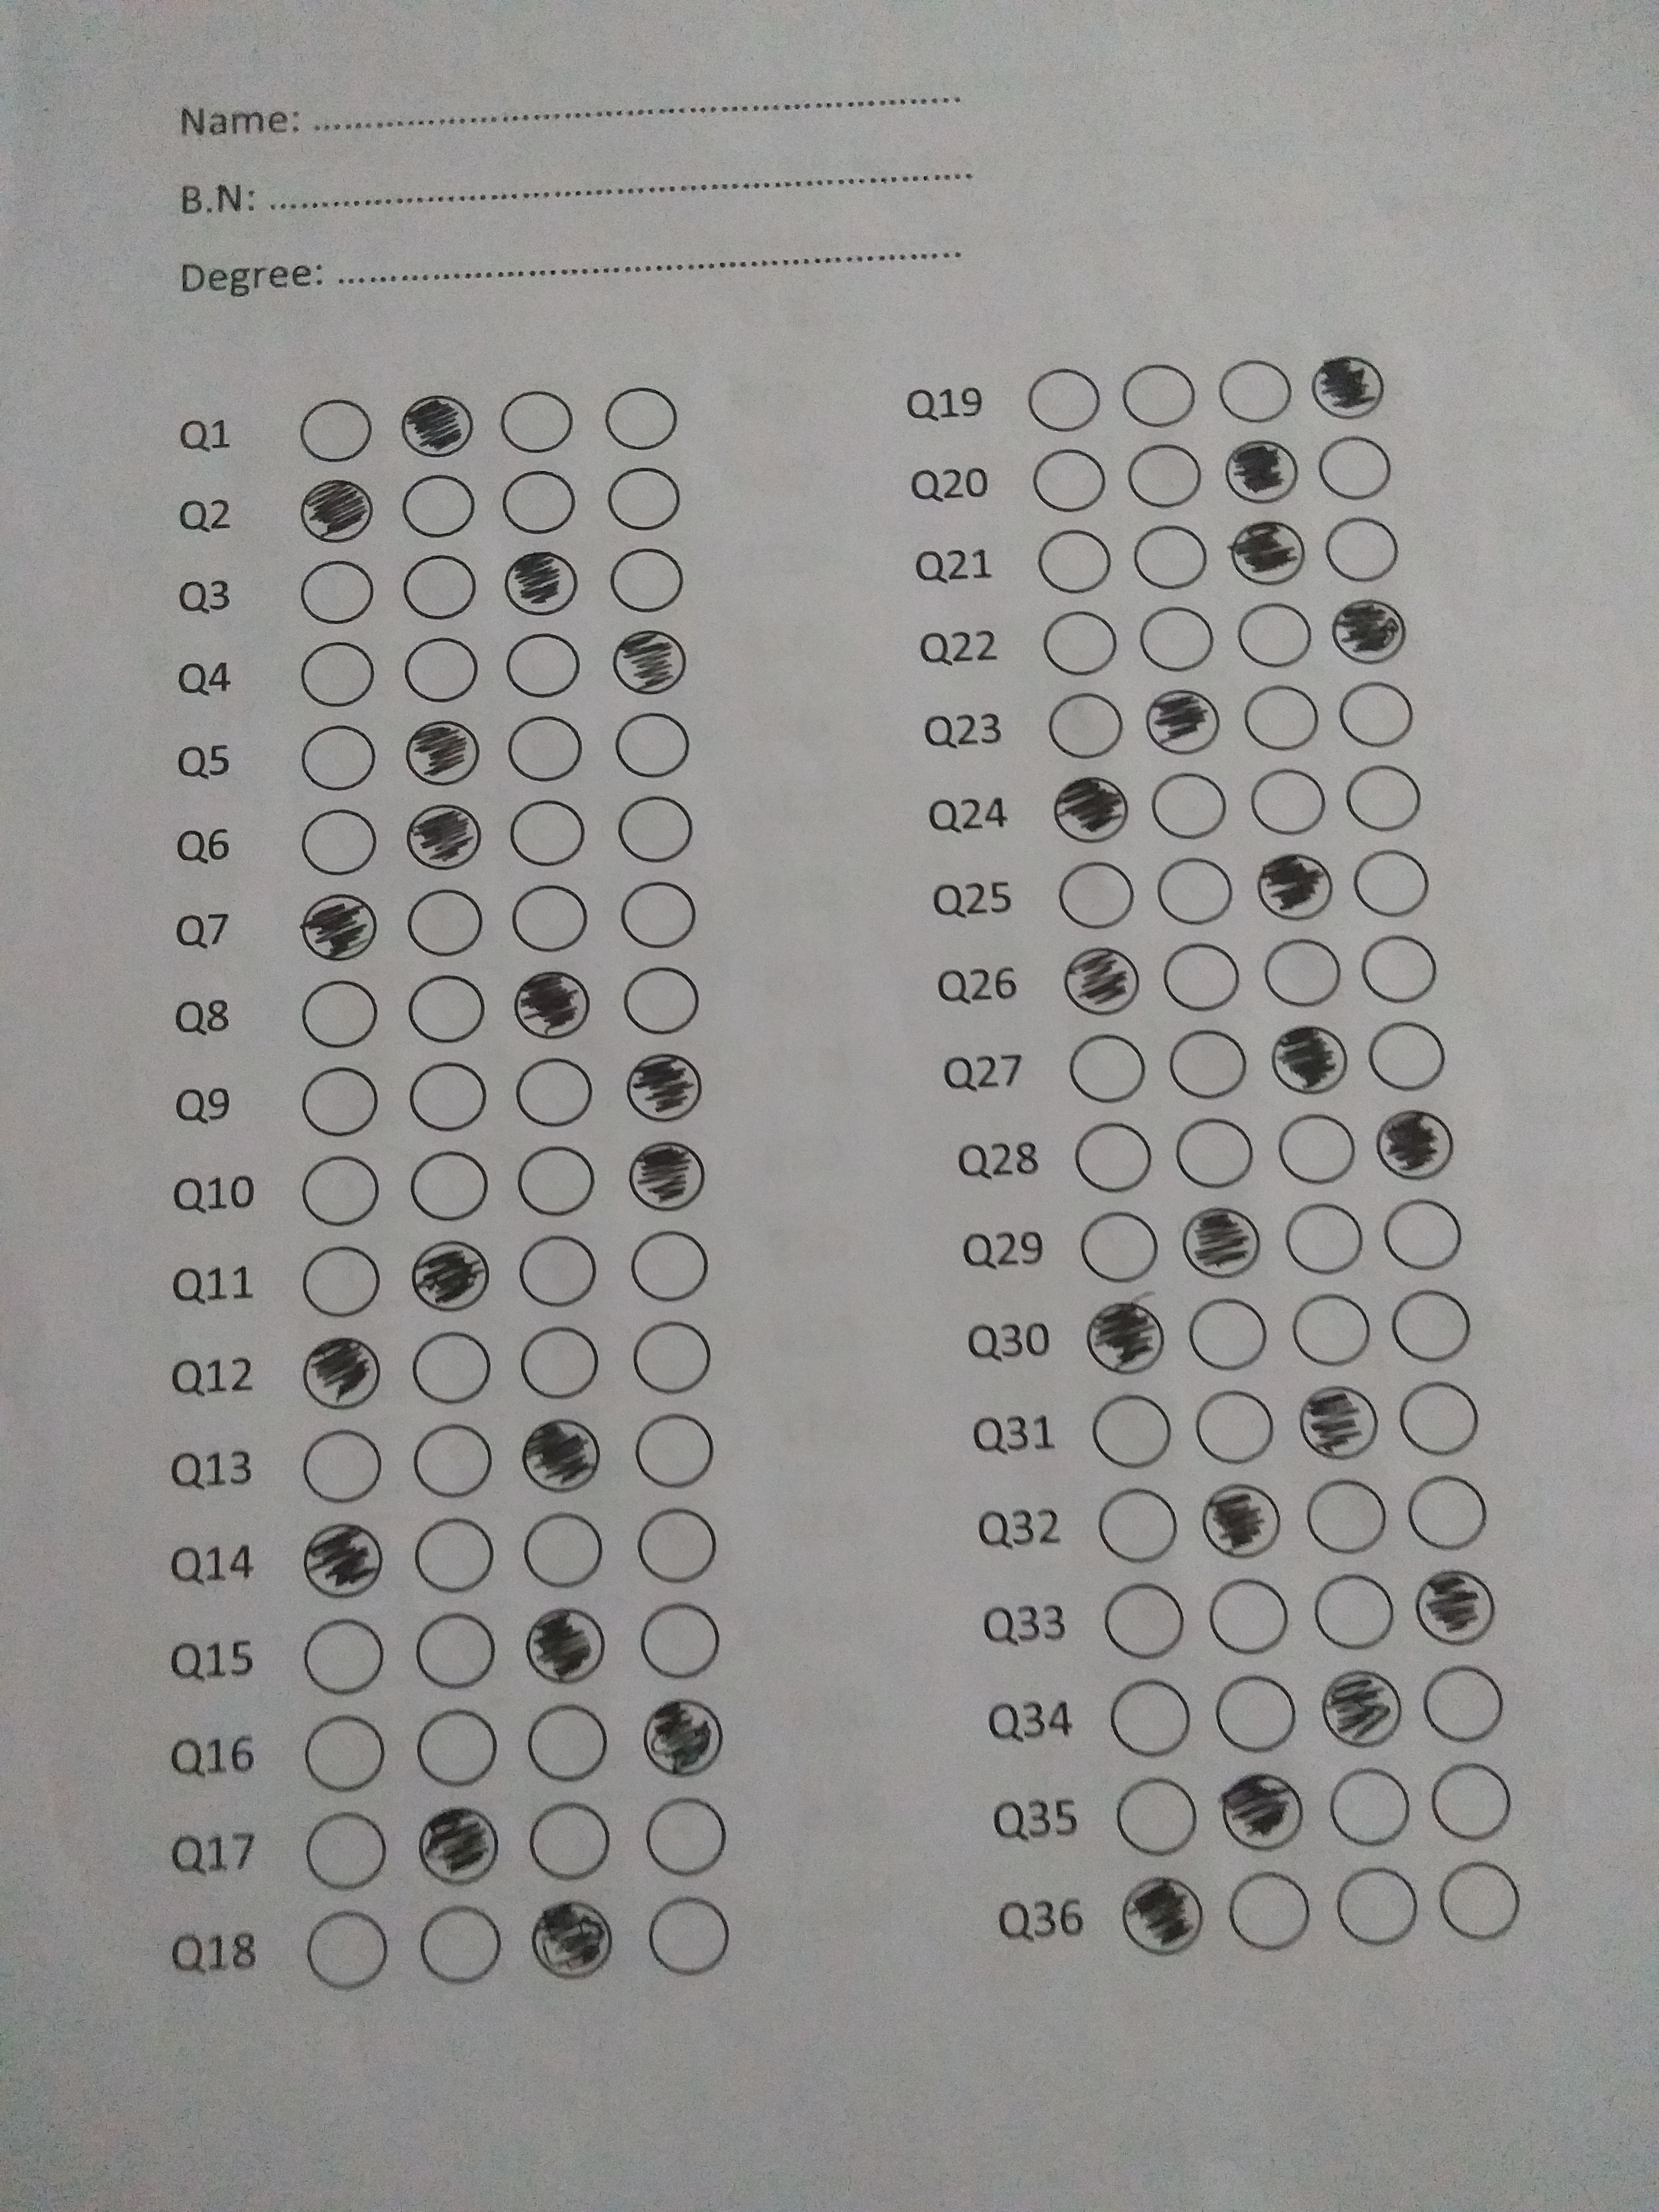not-c: (301, 1905, 389, 1996), (526, 1796, 613, 1886), (641, 1792, 728, 1883), (636, 1597, 723, 1688), (523, 1698, 610, 1789), (301, 1707, 389, 1797), (411, 1608, 498, 1698), (300, 1613, 387, 1703), (633, 1503, 720, 1594), (521, 1505, 608, 1595), (303, 1806, 390, 1897), (645, 1890, 732, 1979), (416, 1898, 504, 1987), (1225, 1867, 1312, 1954), (1434, 1857, 1521, 1944), (1333, 1864, 1420, 1951), (1303, 1475, 1392, 1561), (415, 1703, 500, 1792), (629, 1313, 716, 1399), (1378, 1193, 1466, 1278), (1270, 1103, 1358, 1188), (1171, 1113, 1258, 1198), (1356, 927, 1443, 1012), (1053, 850, 1140, 935), (512, 1137, 599, 1223), (406, 1055, 493, 1141), (403, 967, 490, 1052), (504, 792, 591, 878), (627, 1404, 714, 1489), (1108, 1676, 1195, 1761), (1405, 1470, 1492, 1555), (411, 1420, 500, 1503), (1396, 1378, 1483, 1461), (1190, 1383, 1277, 1467), (1087, 1392, 1175, 1475), (1387, 1285, 1474, 1369), (1288, 1287, 1375, 1371), (1185, 1291, 1272, 1374), (1075, 1205, 1162, 1289), (1281, 1198, 1368, 1282), (1361, 1014, 1448, 1097), (1162, 1022, 1249, 1106), (1063, 1026, 1150, 1109), (1260, 932, 1347, 1015), (1159, 935, 1246, 1019), (1347, 841, 1434, 925), (1152, 848, 1239, 932), (1147, 765, 1234, 848), (1243, 758, 1330, 841), (1338, 758, 1425, 841), (298, 1148, 385, 1231), (404, 1144, 491, 1228), (296, 1061, 383, 1144), (511, 1050, 598, 1134), (615, 961, 702, 1045), (296, 975, 383, 1059), (610, 786, 697, 869), (1424, 1759, 1511, 1843), (1422, 1662, 1509, 1745), (1328, 1766, 1415, 1850), (1112, 1775, 1199, 1858), (1215, 1672, 1302, 1756), (413, 1514, 500, 1597), (301, 1423, 389, 1507), (514, 1320, 601, 1404), (410, 1327, 497, 1411), (300, 1240, 387, 1324), (516, 1230, 603, 1313), (626, 1223, 713, 1306), (1310, 1571, 1398, 1655), (1206, 1575, 1293, 1658), (1101, 1578, 1188, 1662), (1096, 1487, 1183, 1571), (505, 876, 591, 958), (401, 881, 486, 963), (615, 876, 699, 956), (1239, 681, 1324, 756), (612, 707, 694, 780), (296, 637, 378, 711), (295, 392, 376, 465), (1234, 597, 1316, 671), (601, 383, 683, 455), (1021, 364, 1103, 435), (296, 810, 378, 881), (295, 723, 376, 794), (502, 712, 584, 784), (399, 636, 481, 707), (504, 629, 586, 700), (605, 545, 687, 617), (397, 552, 479, 624), (295, 556, 376, 627), (397, 470, 479, 542), (497, 469, 579, 540), (603, 463, 685, 535), (495, 387, 577, 458), (1072, 1123, 1154, 1195), (1121, 359, 1202, 430), (1213, 357, 1295, 428), (1028, 446, 1110, 517), (1037, 526, 1119, 597), (1133, 524, 1215, 596), (1122, 441, 1204, 512), (1331, 679, 1413, 751), (1040, 608, 1122, 679), (1136, 604, 1218, 676), (1319, 516, 1401, 587), (1312, 434, 1394, 505), (1046, 690, 1127, 761)
taken-c: (1115, 1874, 1209, 1956), (1218, 1768, 1307, 1853), (526, 1895, 617, 1979), (638, 1696, 730, 1778), (1314, 1670, 1408, 1750), (411, 1806, 505, 1886), (295, 1522, 389, 1602), (1405, 1568, 1497, 1648), (624, 1137, 714, 1216), (521, 1601, 612, 1679), (620, 1047, 711, 1125), (296, 1332, 387, 1411), (516, 1416, 606, 1494), (1197, 1482, 1288, 1561), (1291, 1383, 1382, 1461), (1079, 1299, 1169, 1378), (1176, 1204, 1267, 1282), (1249, 848, 1340, 927), (1054, 942, 1145, 1021), (505, 963, 596, 1042), (399, 801, 490, 880), (603, 622, 694, 700), (497, 543, 587, 622), (397, 712, 488, 791), (289, 472, 380, 550), (406, 1235, 495, 1313), (1366, 1108, 1455, 1186), (1265, 1022, 1354, 1101), (295, 888, 380, 967), (1307, 347, 1391, 423), (394, 392, 479, 467), (1141, 683, 1225, 758), (1051, 775, 1140, 845), (1220, 434, 1303, 505), (1330, 592, 1412, 664), (1229, 517, 1305, 589)
